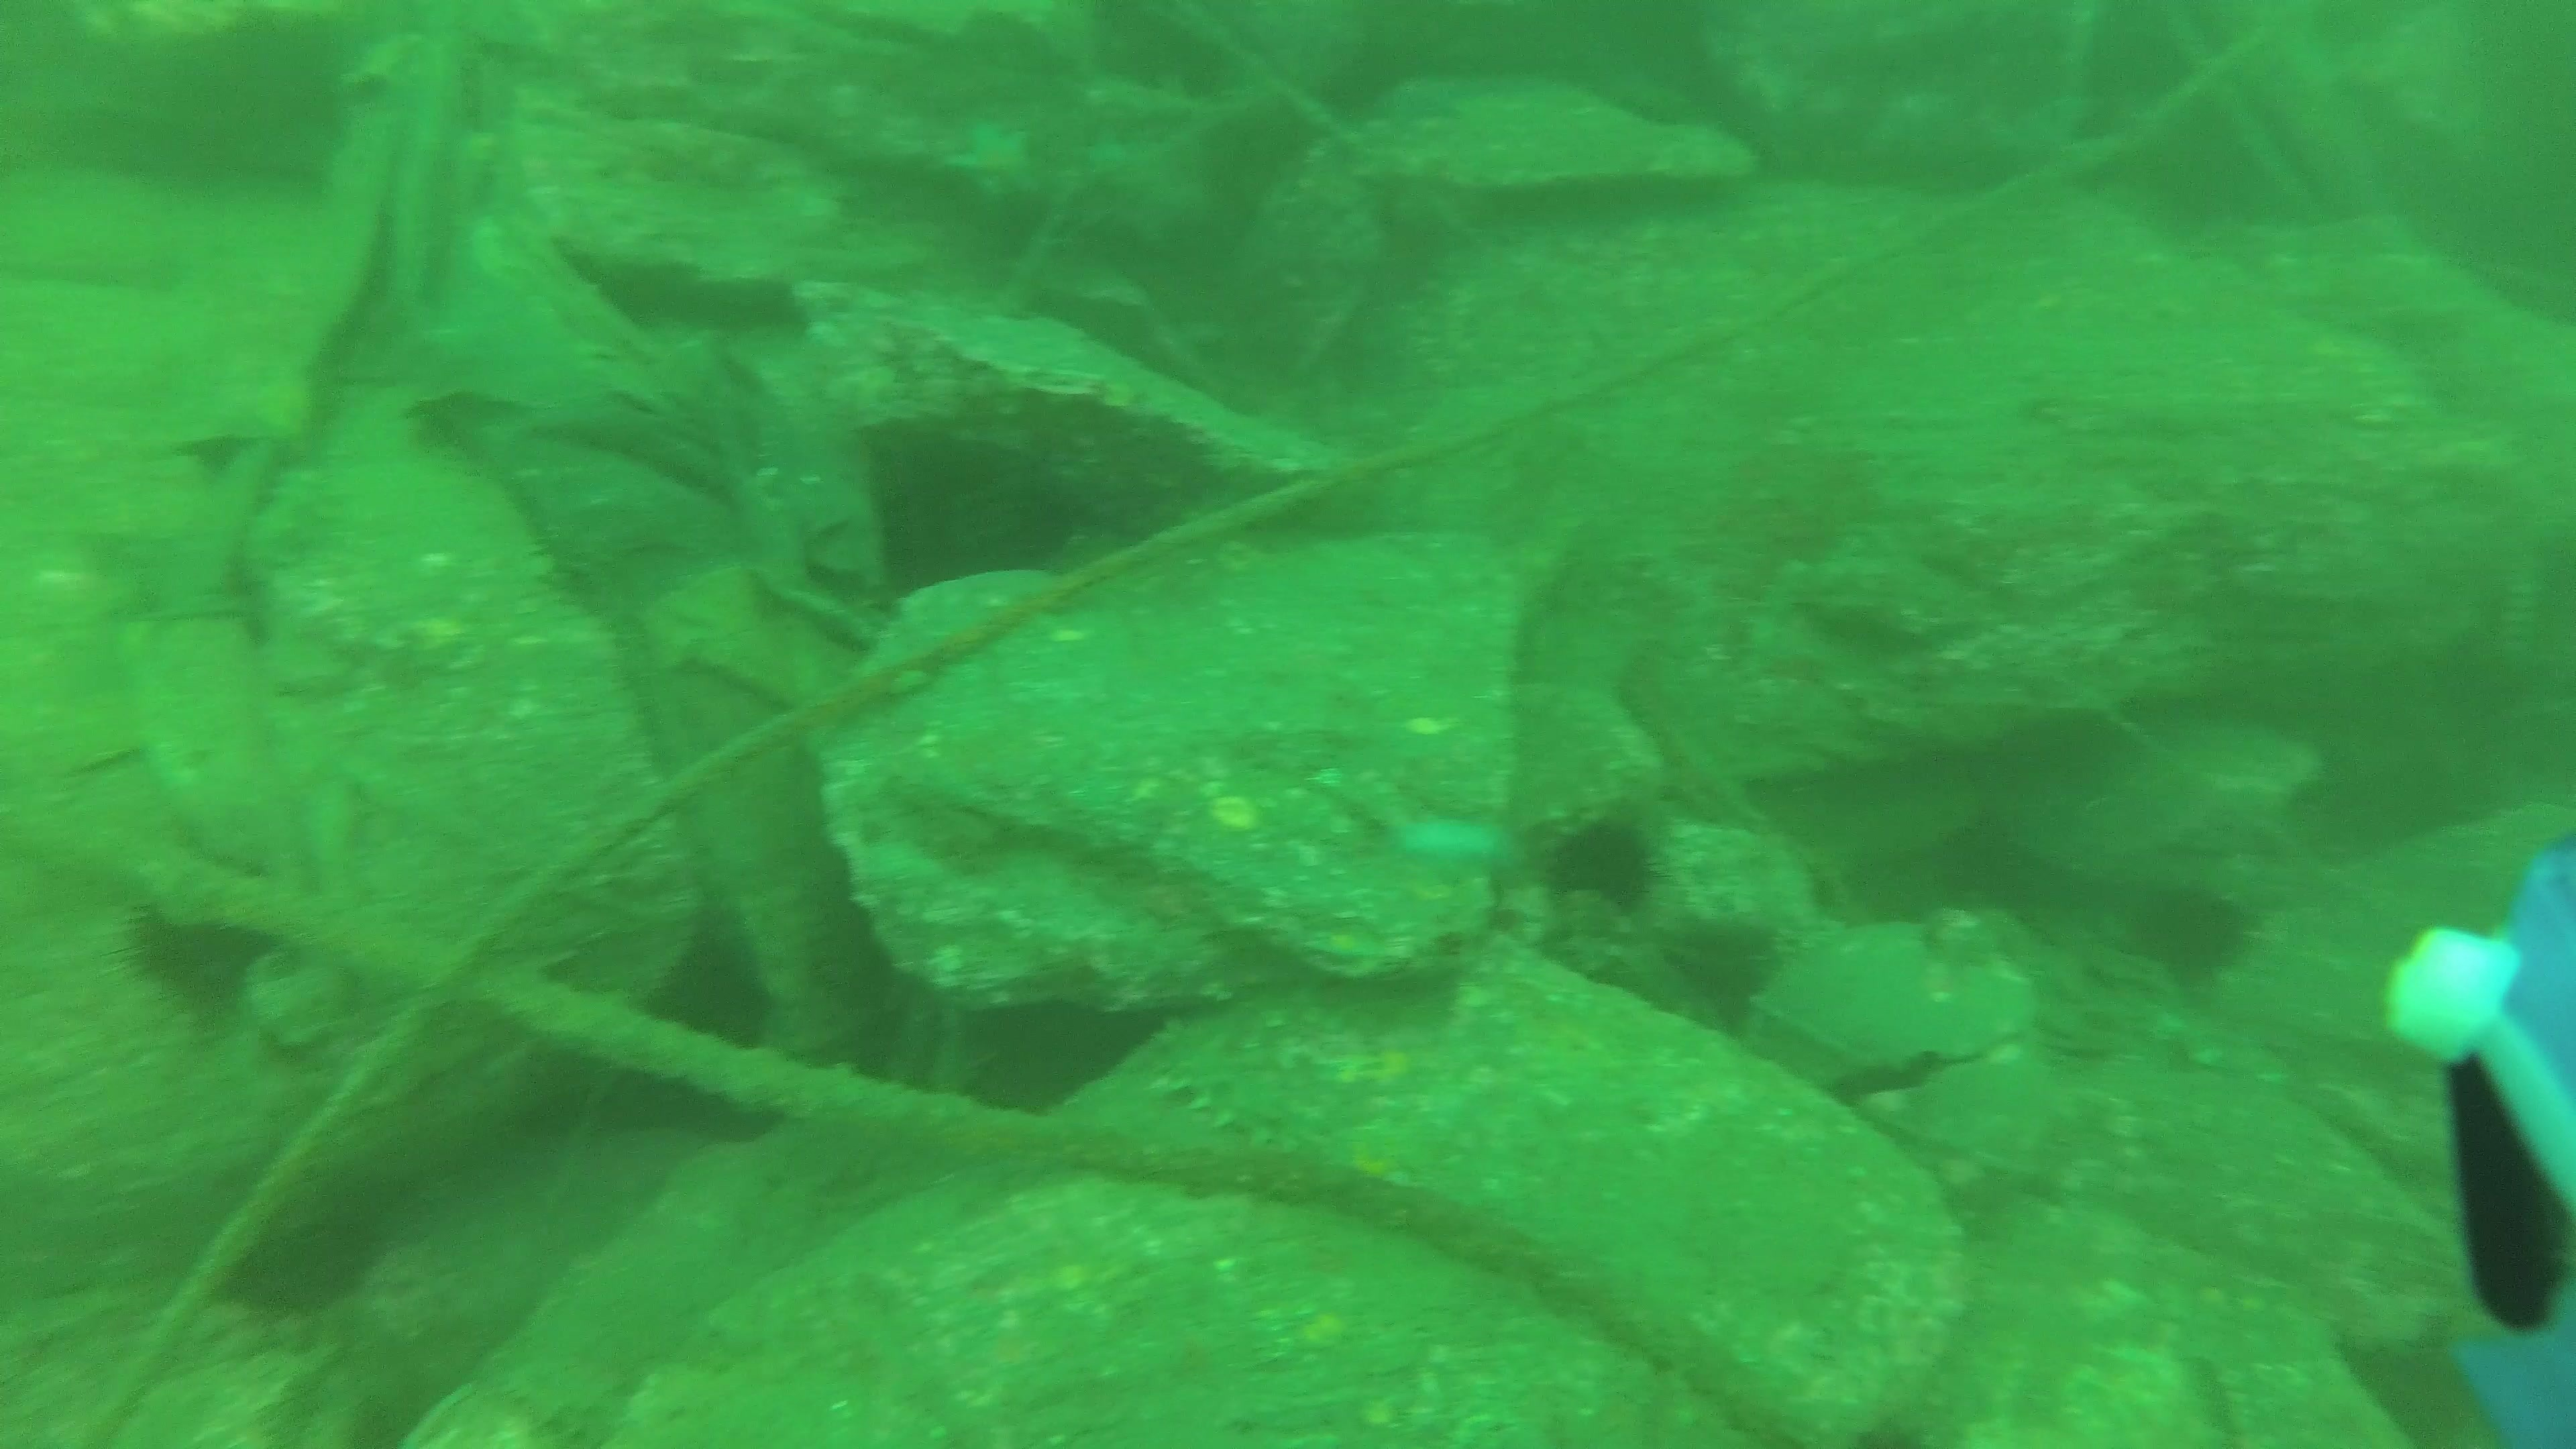echinus: (2086, 863, 2263, 1001), (110, 883, 287, 1019), (207, 1175, 384, 1311), (1537, 810, 1672, 927)
